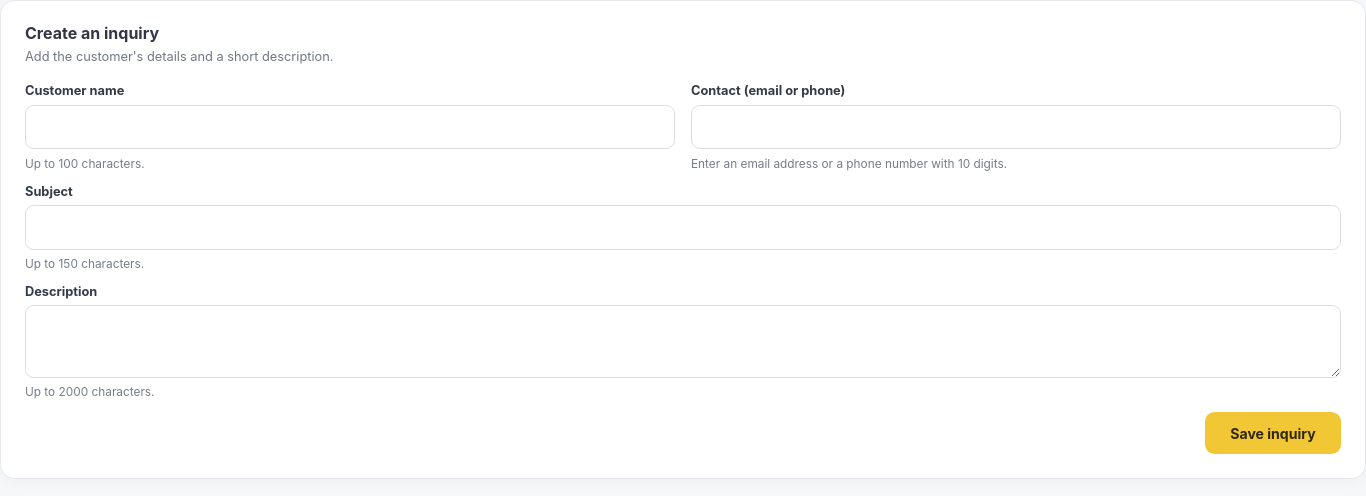
Test: InquiryCreateForm › shows field-specific validation errors and does not submit invalid values
Click the button "Save inquiry".
click(1273, 433)  # box [1205,412,1341,454]
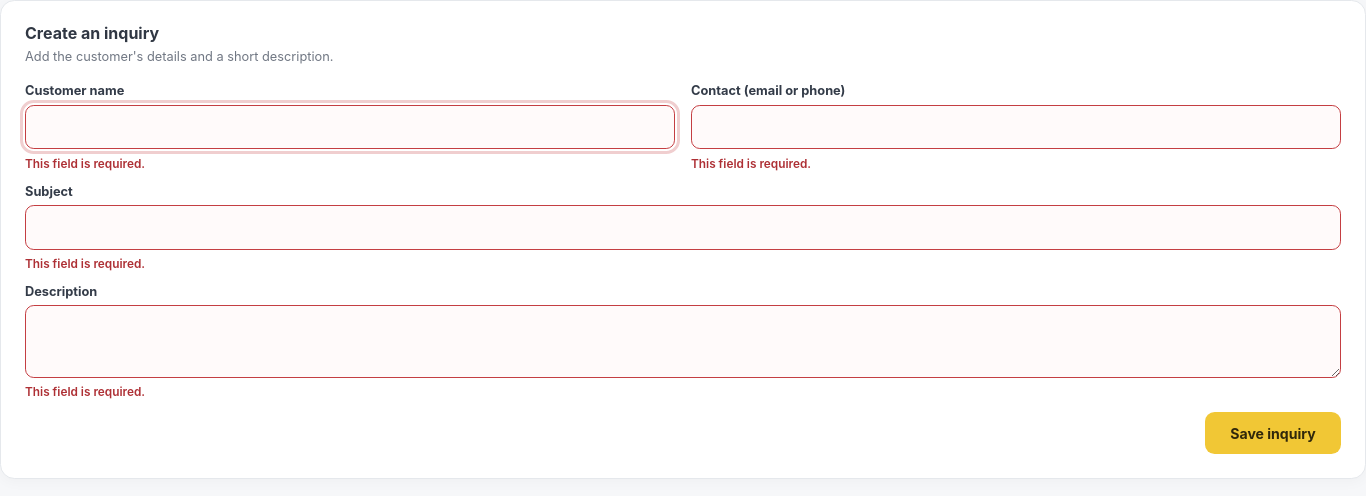
Result: the text "This field is required." is shown 4 times at [25,157,145,171]; [691,157,811,171]; [25,257,145,271]; [25,385,145,399]
